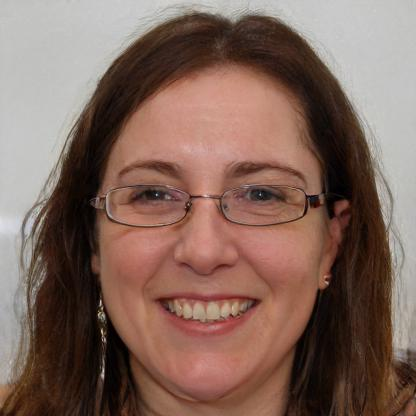glasses: (96, 179, 316, 237)
